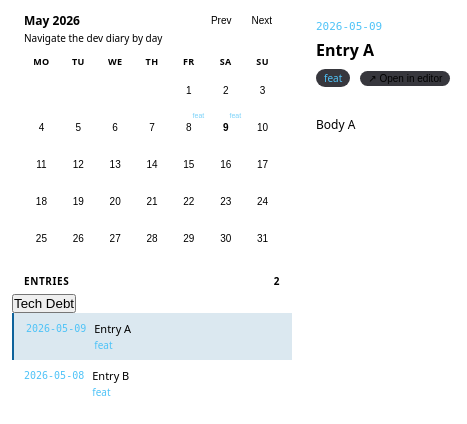
Test: DiaryView › switches content pane when a sidebar entry is clicked
Click the text "Entry B".
click(111, 376)  # box [92,368,129,383]
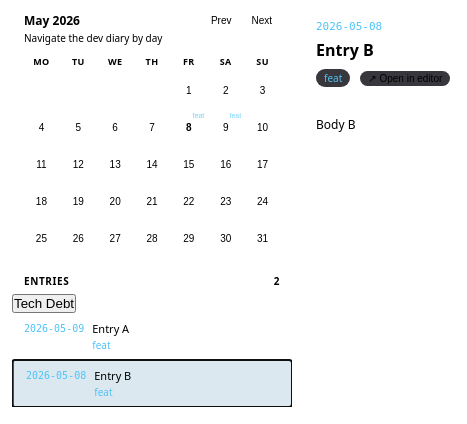
Expected: the text "Body B" is shown, [316,116,356,133]
Expected: the text "Body A" is gone
